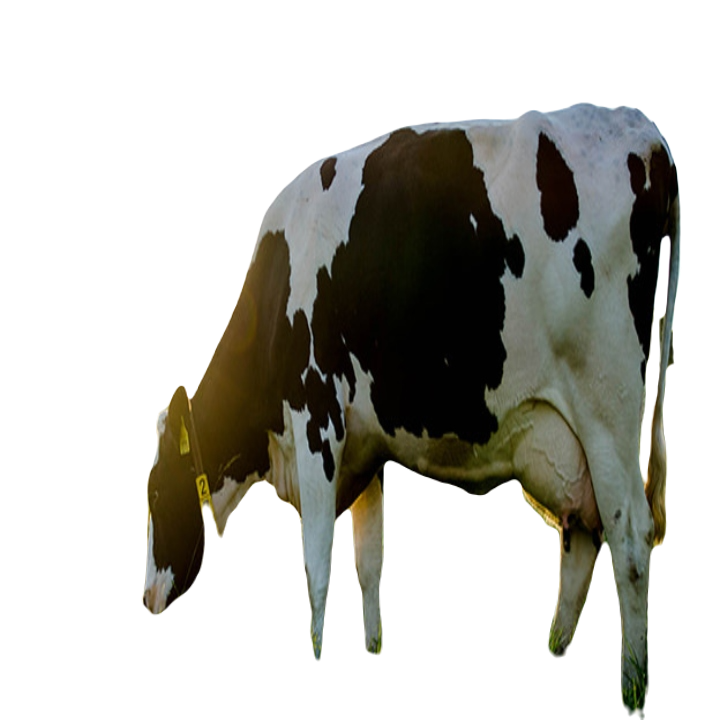Cow: (136, 99, 691, 719)
